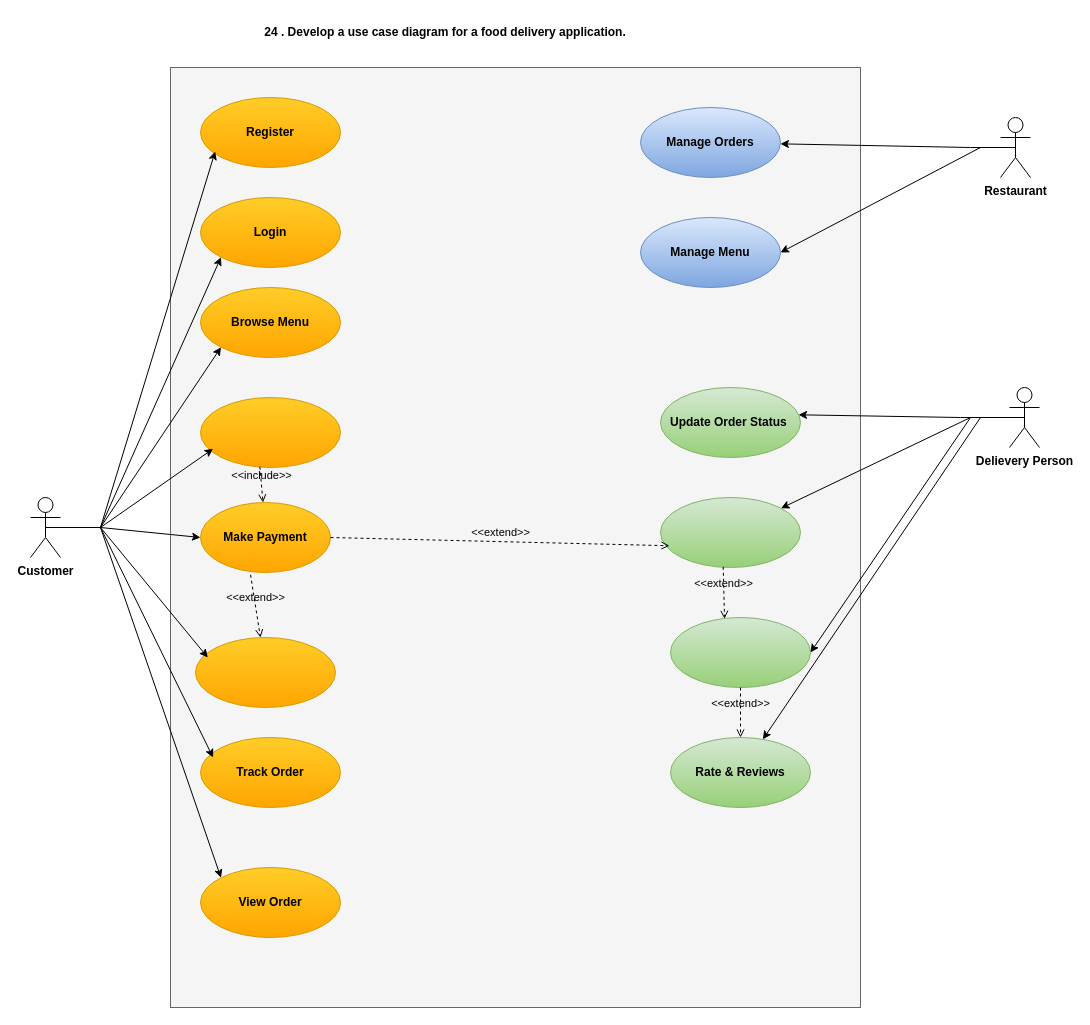
Image size: 1090x1025. Some labels were removed from this diagram. Here are the shapes that lost their labels. From the top down, the centre of each, then its label:
point 270,432: Place Order
point 730,532: Pickup Orders
point 265,672: Apply Coupons
point 740,652: Deliver Order
